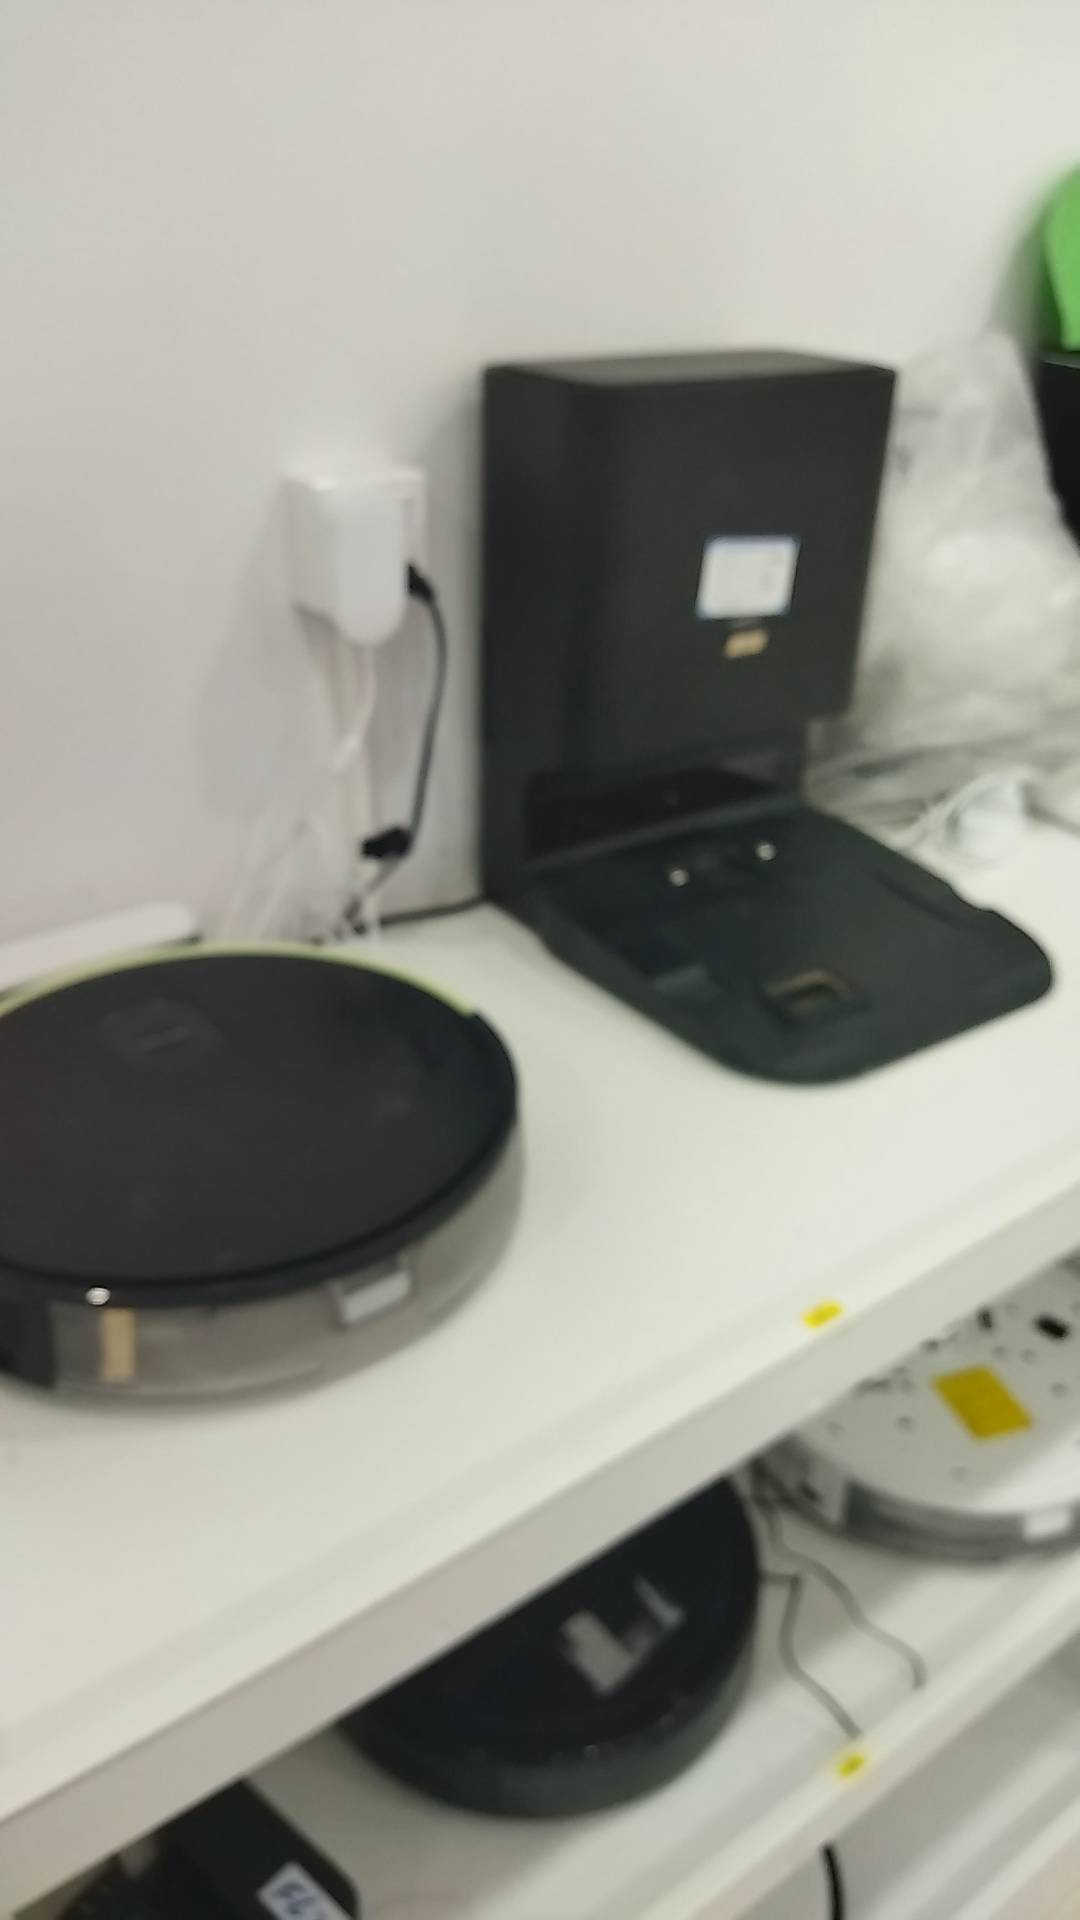dust collecting barrel: (477, 344, 1058, 1085)
